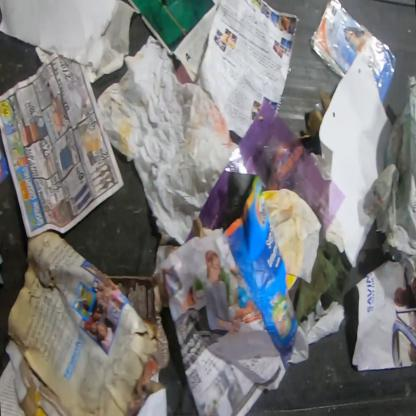cardboard: (6, 229, 162, 416), (105, 270, 171, 374), (3, 336, 73, 415), (134, 379, 169, 415), (298, 108, 324, 140), (318, 89, 332, 112)
soft_plastic: (96, 34, 238, 246), (198, 98, 347, 249)
